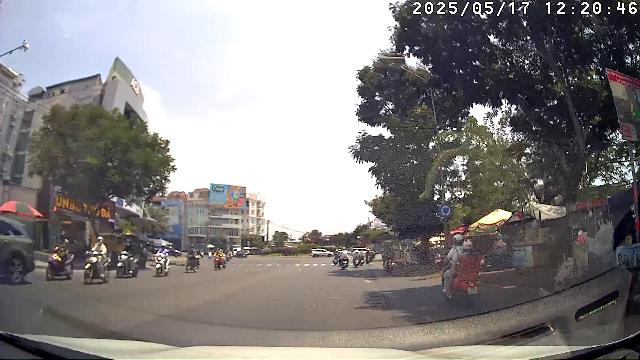303-noi-giao-nhau-chay-theo-vong-xuyen: (440, 204, 452, 216)
